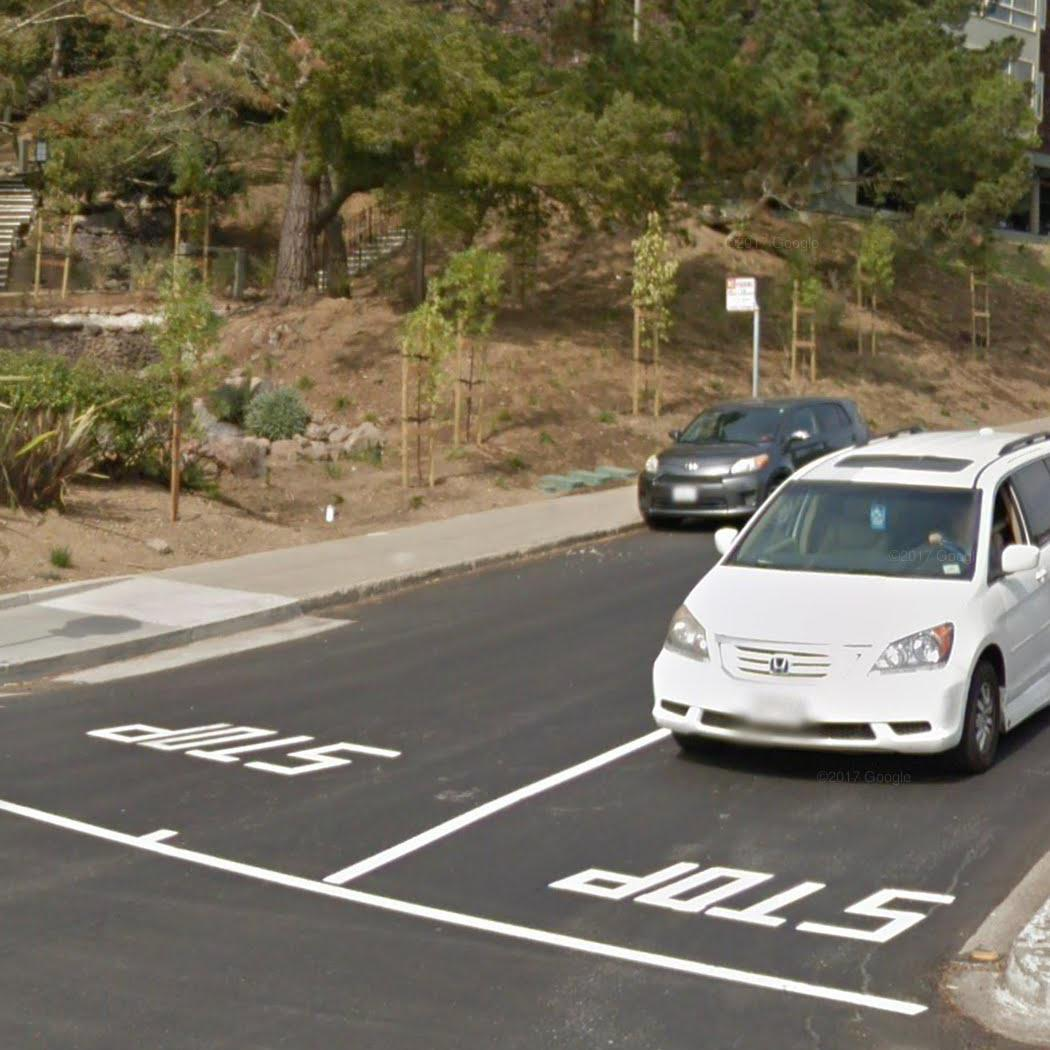No Parking: (721, 273, 762, 314)
